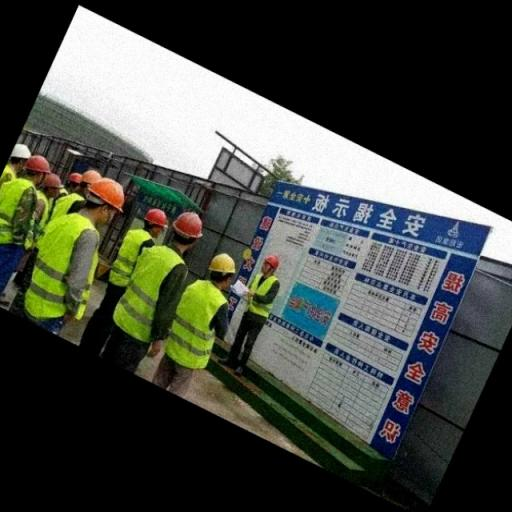Person: (164, 251, 242, 401), (51, 180, 121, 337), (3, 145, 51, 261), (242, 242, 290, 356), (124, 190, 167, 285)
helmet: (88, 176, 126, 214), (166, 210, 208, 240), (25, 146, 54, 176), (206, 250, 242, 274), (136, 203, 166, 224), (42, 173, 65, 191), (84, 166, 102, 188), (260, 250, 281, 268), (68, 168, 84, 184)
vest: (21, 214, 100, 327), (115, 242, 188, 344), (178, 276, 228, 376), (1, 175, 39, 248), (110, 228, 152, 288), (248, 269, 281, 321), (52, 195, 80, 218)
